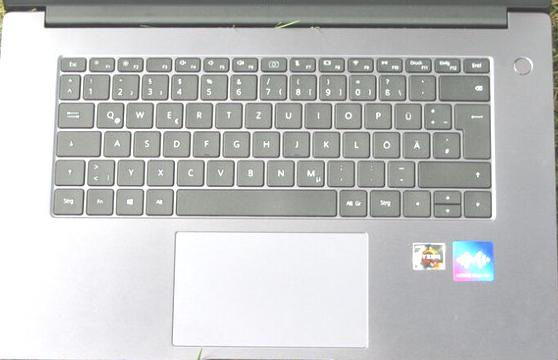0: (347, 72, 375, 99)
1: (81, 72, 108, 99)
2: (110, 72, 138, 98)
3: (139, 72, 167, 98)
4: (170, 72, 196, 99)
5: (199, 72, 226, 99)
6: (228, 72, 255, 99)
7: (258, 72, 286, 99)
8: (287, 72, 315, 99)
9: (317, 72, 345, 99)
a: (102, 128, 130, 156)
accent: (407, 72, 434, 99)
ae: (401, 129, 429, 157)
alt-left: (144, 187, 172, 215)
altgr-right: (337, 188, 366, 216)
b: (235, 157, 264, 185)
c: (175, 157, 203, 185)
caret: (58, 72, 79, 98)
comma: (325, 158, 354, 185)
d: (161, 128, 189, 156)
del: (437, 73, 488, 100)
e: (154, 100, 182, 127)
enter: (453, 101, 489, 158)
f: (191, 129, 219, 156)
g: (221, 129, 248, 156)
h: (251, 129, 279, 156)
hash: (431, 129, 459, 157)
i: (303, 100, 331, 127)
j: (281, 129, 309, 156)
k: (311, 129, 339, 157)
keyboard: (45, 51, 502, 226)
l: (341, 129, 368, 156)
less: (85, 157, 114, 185)
m: (295, 158, 324, 186)
minus: (385, 159, 414, 186)
n: (265, 158, 294, 186)
o: (332, 100, 361, 128)
oe: (371, 129, 399, 157)
p: (363, 100, 391, 128)
plus: (422, 101, 450, 128)
point: (356, 158, 384, 185)
q: (95, 100, 123, 127)
r: (184, 100, 211, 127)
s: (132, 128, 159, 156)
shift-left: (53, 157, 84, 184)
shift-lock: (55, 128, 100, 155)
shift-right: (416, 158, 489, 187)
space: (174, 187, 336, 216)
ss: (377, 72, 405, 99)
strg-left: (51, 186, 83, 214)
strg-right: (368, 188, 400, 216)
t: (213, 100, 241, 127)
tab: (56, 100, 93, 127)
u: (273, 100, 301, 128)
ue: (392, 101, 420, 128)
v: (204, 157, 234, 185)
w: (124, 100, 152, 127)
x: (145, 157, 173, 185)
y: (115, 157, 143, 185)
z: (243, 100, 271, 127)
